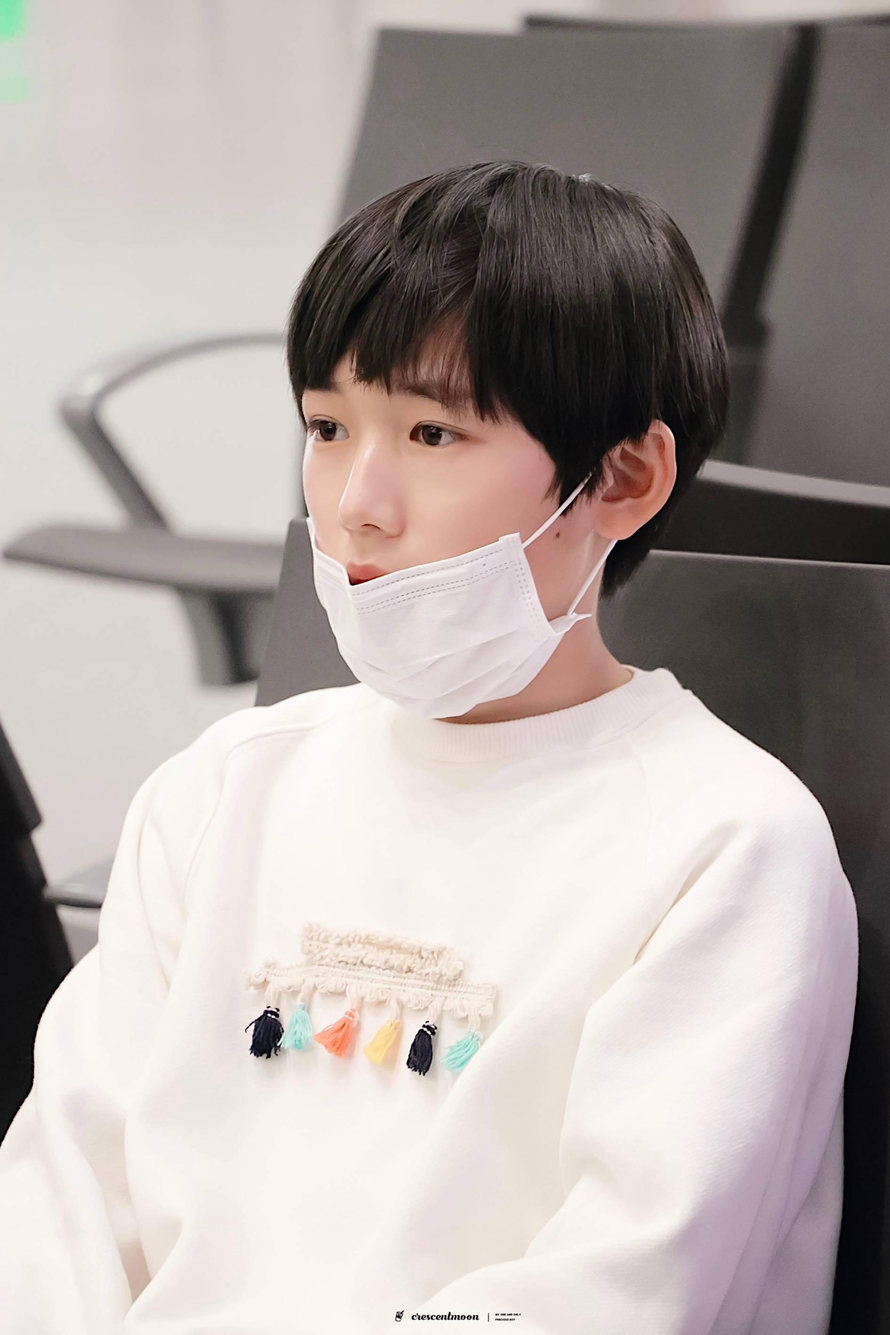WRONG: (293, 333, 554, 687)
